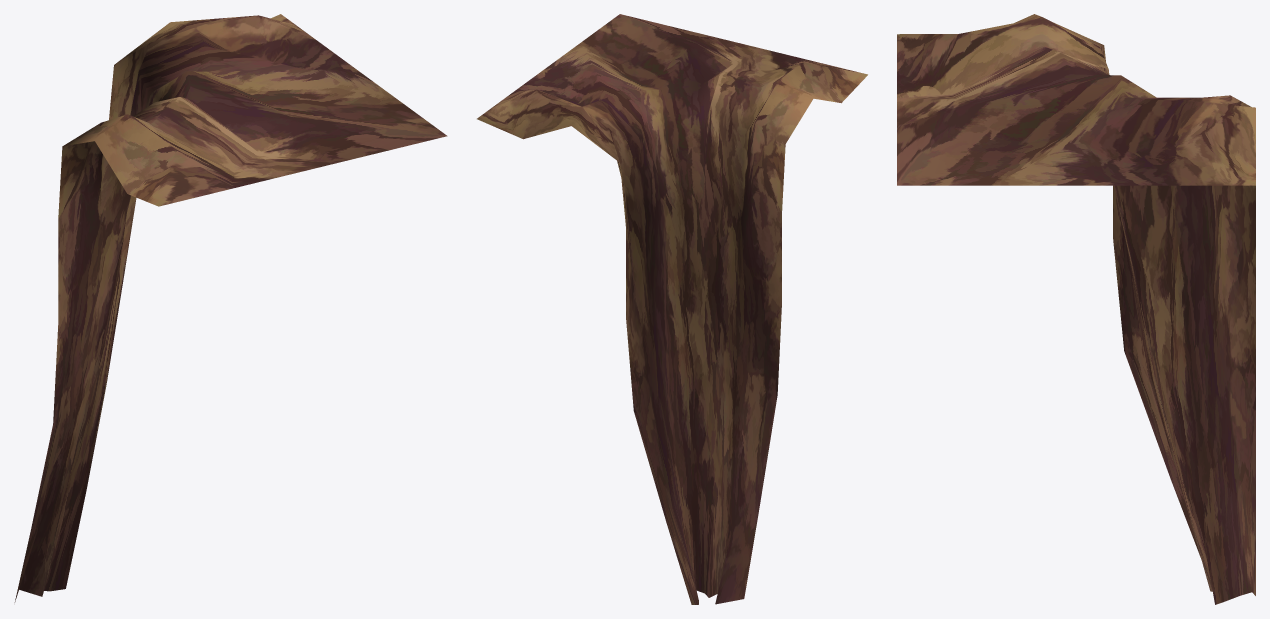
Rendered from CaveWallCurvedInside.obj.
The picture shows the model from 3 angles, left to right: view 1: azimuth 30°, elevation 25°; view 2: azimuth 150°, elevation 25°; view 3: azimuth 270°, elevation 25°; orthographic projection. The views are drawn at different scales.
Visible parts, largest first — view 1: CurvedWallInside; view 2: CurvedWallInside; view 3: CurvedWallInside.
Boxes of the visible parts, left/top/right/bottom form: CurvedWallInside: left=14, top=14, right=447, bottom=602; CurvedWallInside: left=477, top=14, right=867, bottom=604; CurvedWallInside: left=897, top=14, right=1255, bottom=604.
Bounding box in the file's own units: 300 × 533 × 300.
Materials: 1 (1 with a texture image).
